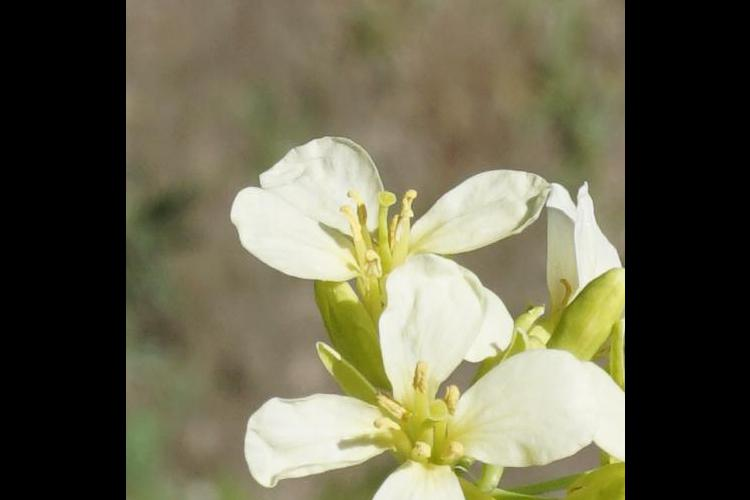bud: (547, 266, 622, 369)
white: (228, 151, 549, 377), (240, 290, 576, 500)
